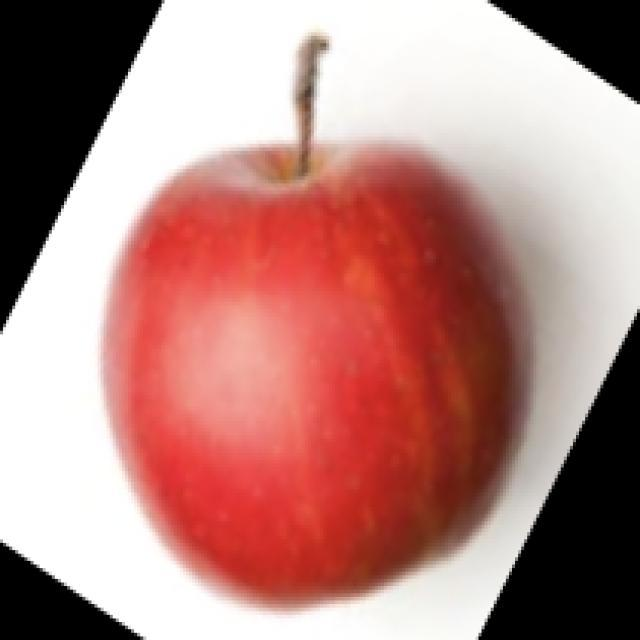Apple: (99, 29, 512, 601)
